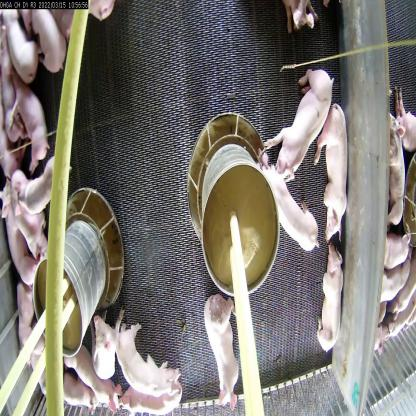Pig: (260, 69, 335, 180), (257, 147, 321, 254), (61, 336, 124, 416), (315, 102, 349, 247), (111, 324, 177, 398), (204, 291, 244, 412), (0, 175, 39, 289), (9, 76, 48, 170), (25, 2, 69, 76), (317, 243, 345, 355), (0, 6, 40, 83), (12, 157, 63, 215), (384, 107, 407, 234), (87, 309, 124, 381), (52, 363, 96, 416), (11, 280, 39, 359), (117, 383, 186, 414), (379, 253, 408, 313), (385, 235, 410, 274)
